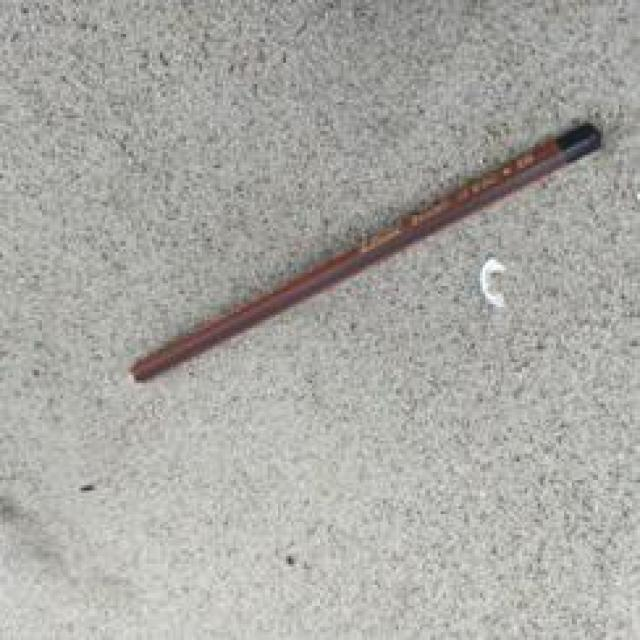pencil: (106, 106, 622, 403)
